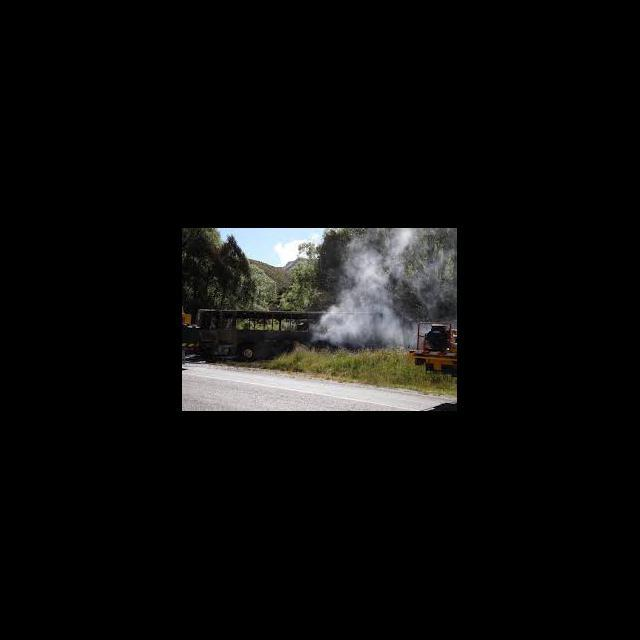Smoke: (311, 229, 452, 349)
